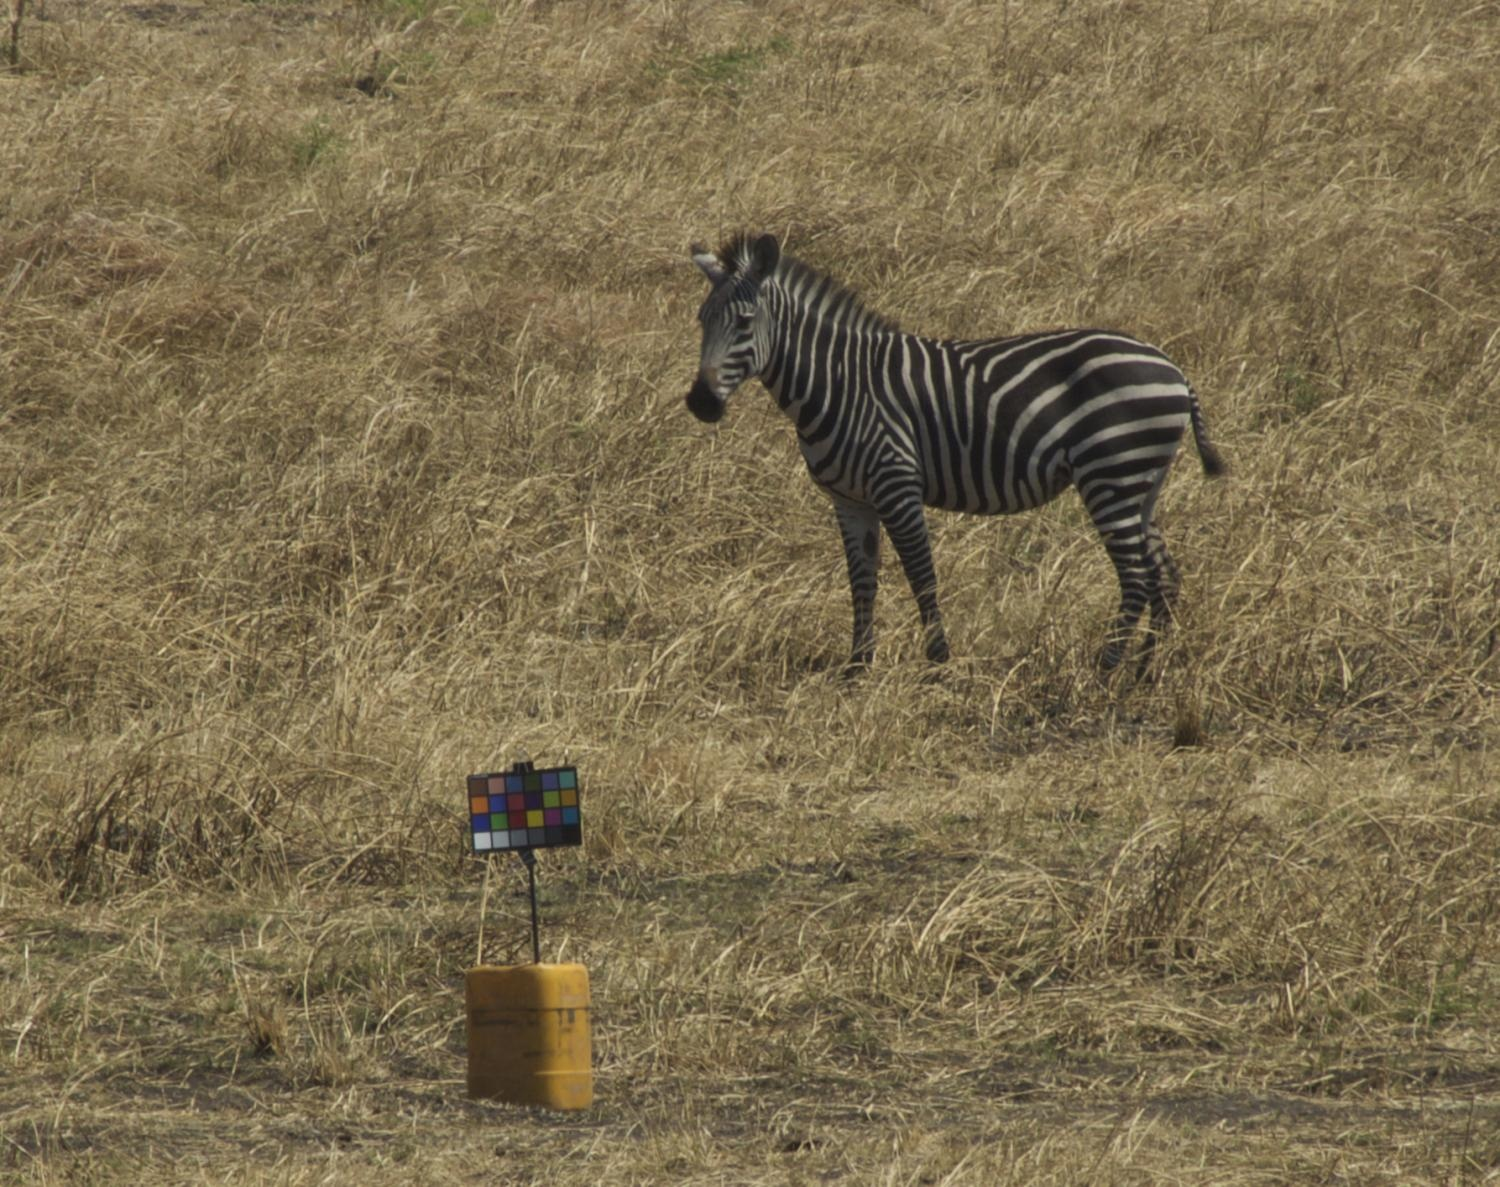zebra: (685, 229, 1221, 709)
